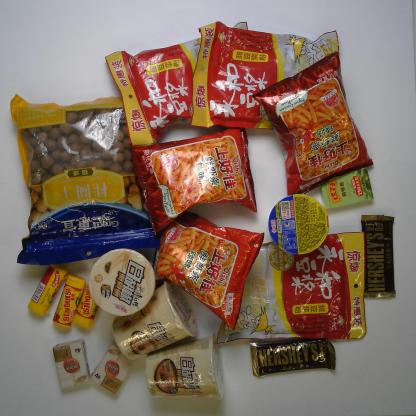Candy: (19, 261, 73, 311), (316, 170, 375, 206), (48, 275, 84, 329), (72, 275, 99, 328)
Chocolate: (245, 332, 338, 380), (362, 206, 394, 304)
Dried Food: (9, 87, 163, 264)
Instant Drink: (188, 14, 355, 133), (101, 20, 259, 142), (223, 227, 368, 350)
Instant Noodles: (113, 284, 199, 360), (82, 238, 160, 317), (253, 188, 333, 258), (141, 332, 219, 402)
Puffed Food: (252, 54, 374, 195), (150, 204, 265, 325), (125, 122, 251, 229)
Tissue: (35, 322, 98, 400), (93, 345, 132, 399)
